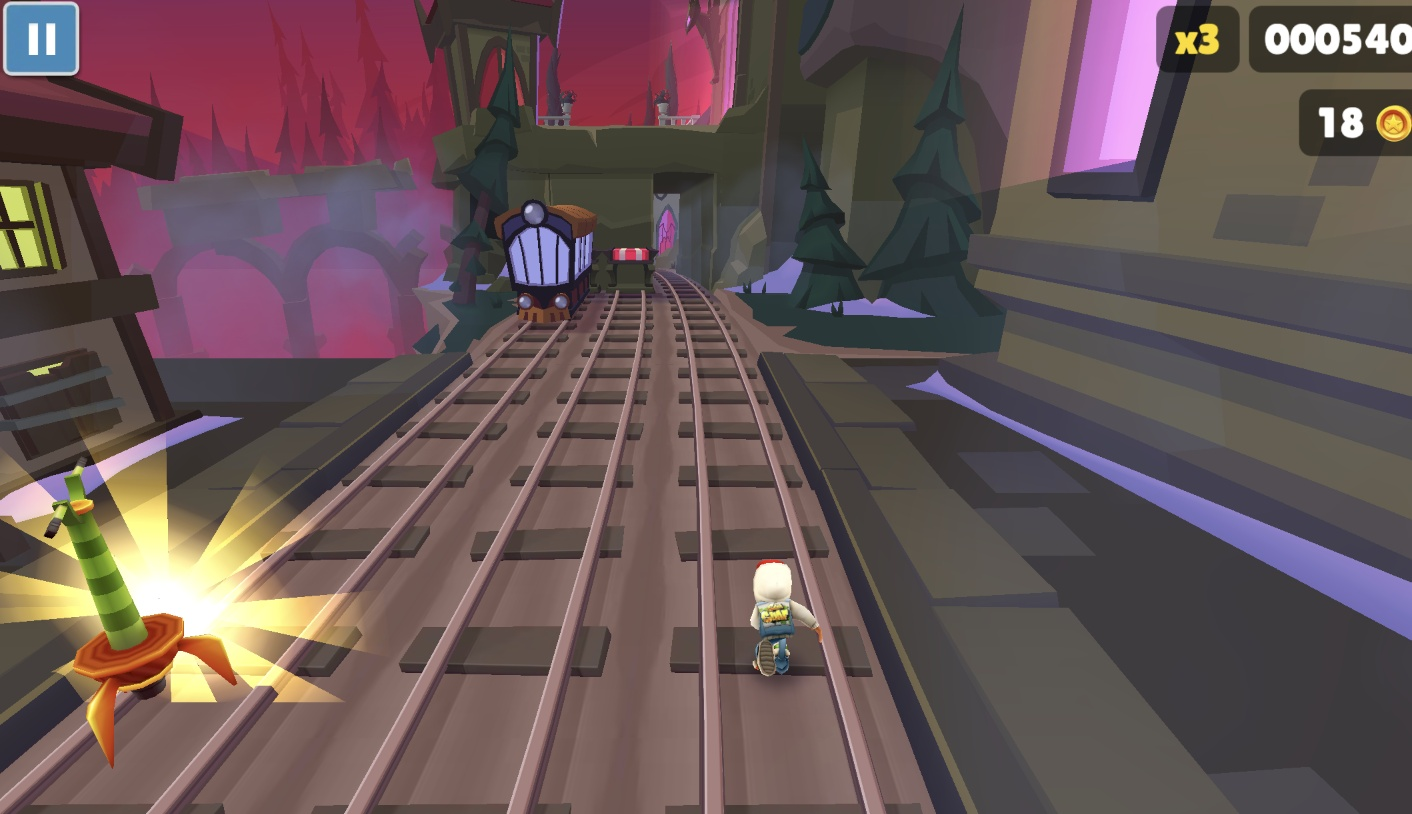ground_barrier: (597, 247, 656, 295)
train: (490, 200, 597, 326)
